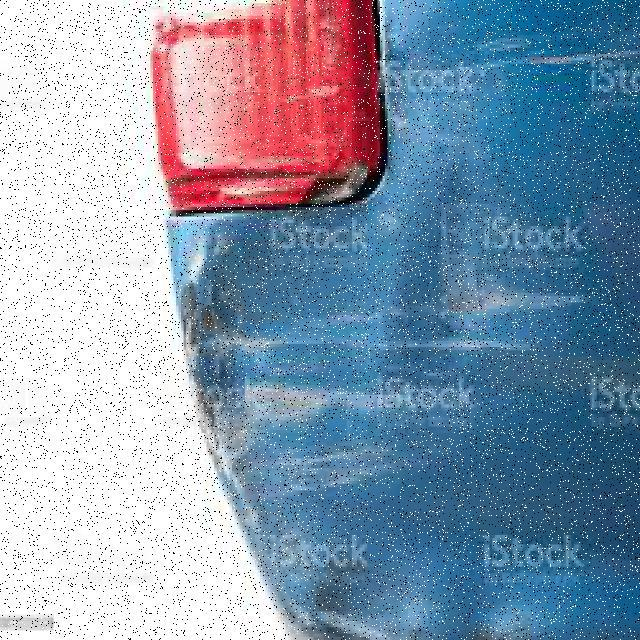rear-bumper-dent: (148, 67, 638, 637)
